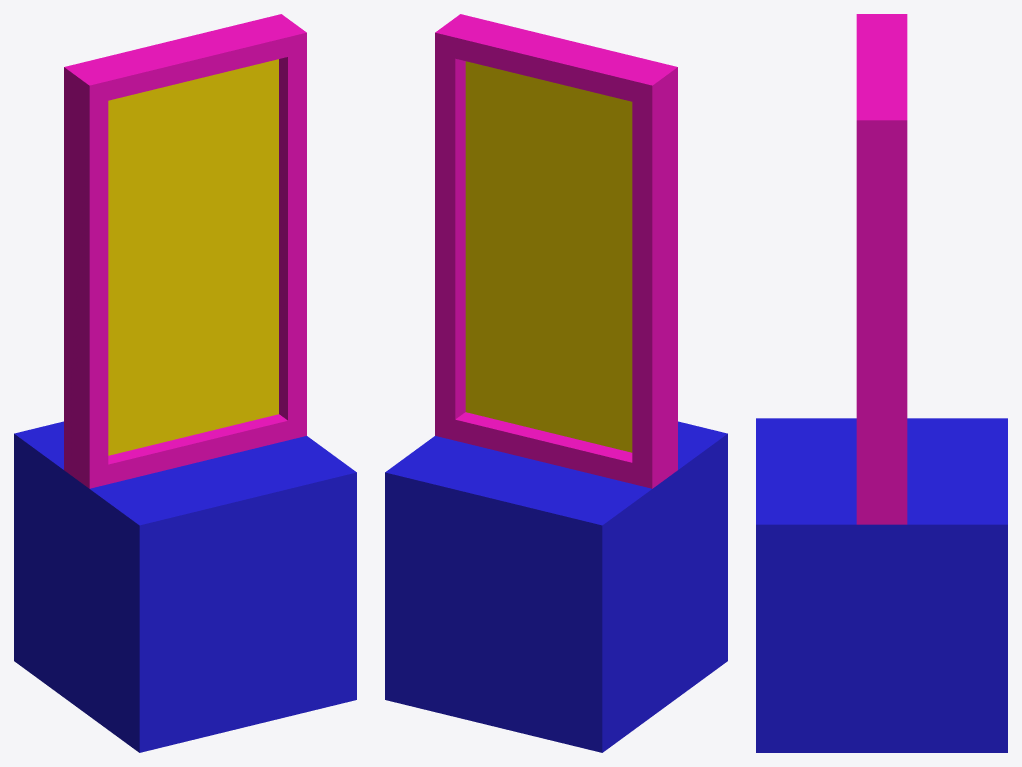
The model's file is InsideWallBlue.fbx.
3 renders of one model, left to right at view 1: azimuth 30°, elevation 25°; view 2: azimuth 150°, elevation 25°; view 3: azimuth 270°, elevation 25°, orthographic.
Parts seen in each view (by area): view 1: insidewall_lowpoly, Box240; view 2: insidewall_lowpoly, Box240; view 3: Box240, insidewall_lowpoly.
Boxes of the visible parts, box(x1,y1,x2,y2) form: insidewall_lowpoly: box(64, 14, 306, 488); Box240: box(14, 421, 356, 752); insidewall_lowpoly: box(435, 14, 677, 488); Box240: box(385, 421, 727, 752); Box240: box(756, 418, 1007, 752); insidewall_lowpoly: box(856, 14, 907, 524).
Bounding box in the file's own units: 39.5 × 110 × 39.5.
